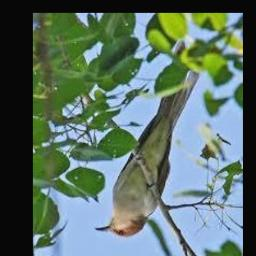Cuckoo: (94, 43, 201, 238)
